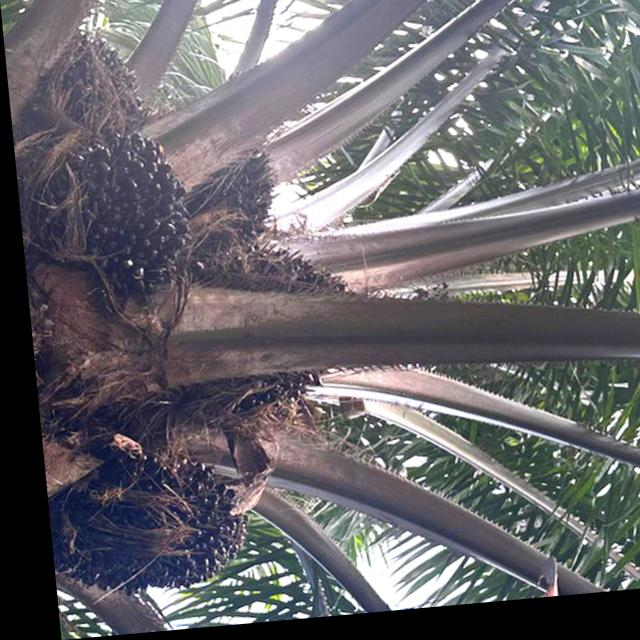unripe: (162, 230, 359, 433)
